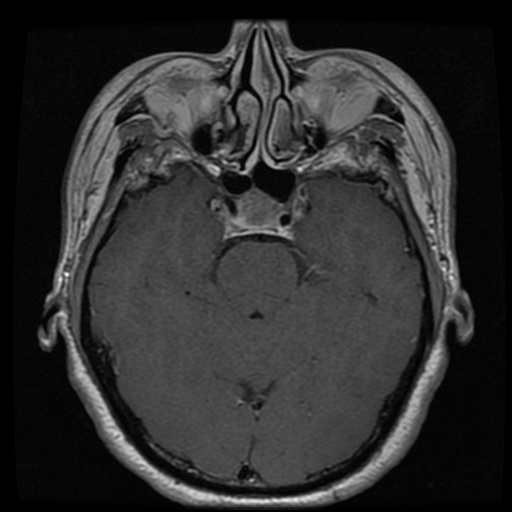pituitary: (237, 190, 281, 228)
